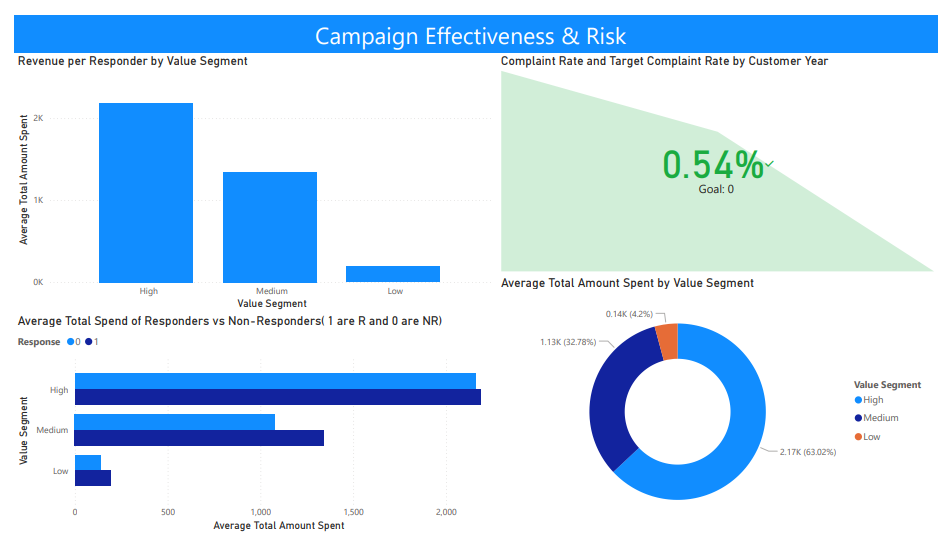

Layout of this report page (visuals, bound fields, positions):
{"tool":"powerbi","page":{"name":"Page 4","canvas":[1280,720],"ordinal":3},"visuals":[{"type":"textbox","box":[0,0,1280,53],"z":0},{"type":"clusteredBarChart","title":"Average Total Spend of Responders vs Non-Responders( 1 are R and 0 are NR)","fields":{"Category":["marketing_campaign.ValueSeg"],"Y":["marketing_campaign.Avg Total Amount Spent"],"Series":["marketing_campaign.response"]},"box":[0,412.8,670.3,306.7],"z":1000},{"type":"clusteredColumnChart","title":"Revenue per Responder by Value Segment","fields":{"Category":["marketing_campaign.ValueSeg"],"Y":["marketing_campaign.Avg Total Amount Spent"]},"box":[0,53,670.3,359.8],"z":2000},{"type":"donutChart","title":"Average Total Amount Spent by Value Segment","fields":{"Category":["marketing_campaign.ValueSeg"],"Y":["marketing_campaign.Avg Total Amount Spent"]},"box":[670.3,359.8,609.7,359.8],"z":3000},{"type":"kpi","fields":{"Indicator":["marketing_campaign.Complaint Rate"],"Goal":["marketing_campaign.Target Complaint Rate"],"TrendLine":["marketing_campaign.Customer Year"]},"box":[670.3,53,609.7,306.7],"z":5000}]}

Visuals, with their boxes in screenshot pixels (x1, y1, x2, y2), scaled from the page's 1280x720 canvas onto the 952x547 screenshot:
textbox: (left=0, top=0, right=951, bottom=40)
"Average Total Spend of Responders vs Non-Responders( 1 are R and 0 are NR)" clusteredBarChart: (left=0, top=314, right=499, bottom=546)
"Revenue per Responder by Value Segment" clusteredColumnChart: (left=0, top=40, right=499, bottom=314)
"Average Total Amount Spent by Value Segment" donutChart: (left=499, top=273, right=951, bottom=546)
kpi - marketing_campaign.Complaint Rate x marketing_campaign.Target Complaint Rate: (left=499, top=40, right=951, bottom=273)
